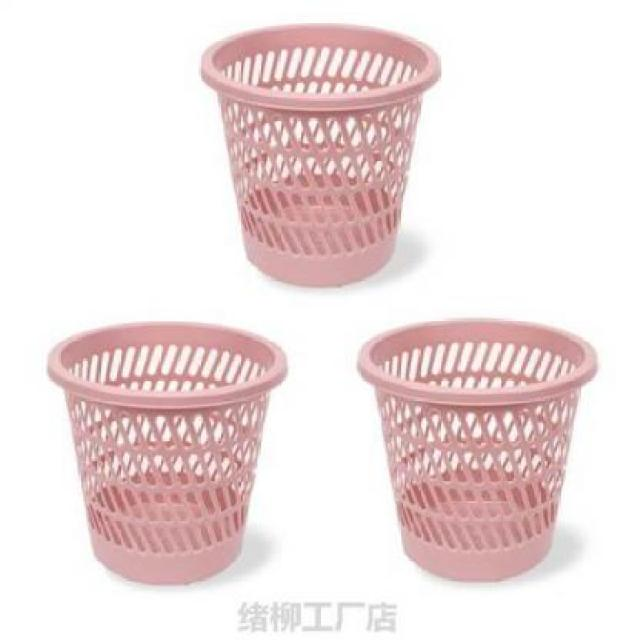dustbin: (194, 18, 445, 294), (352, 314, 602, 586), (45, 317, 292, 588)
